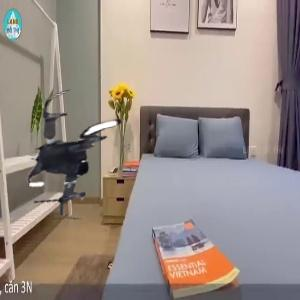drone: (11, 87, 150, 226)
